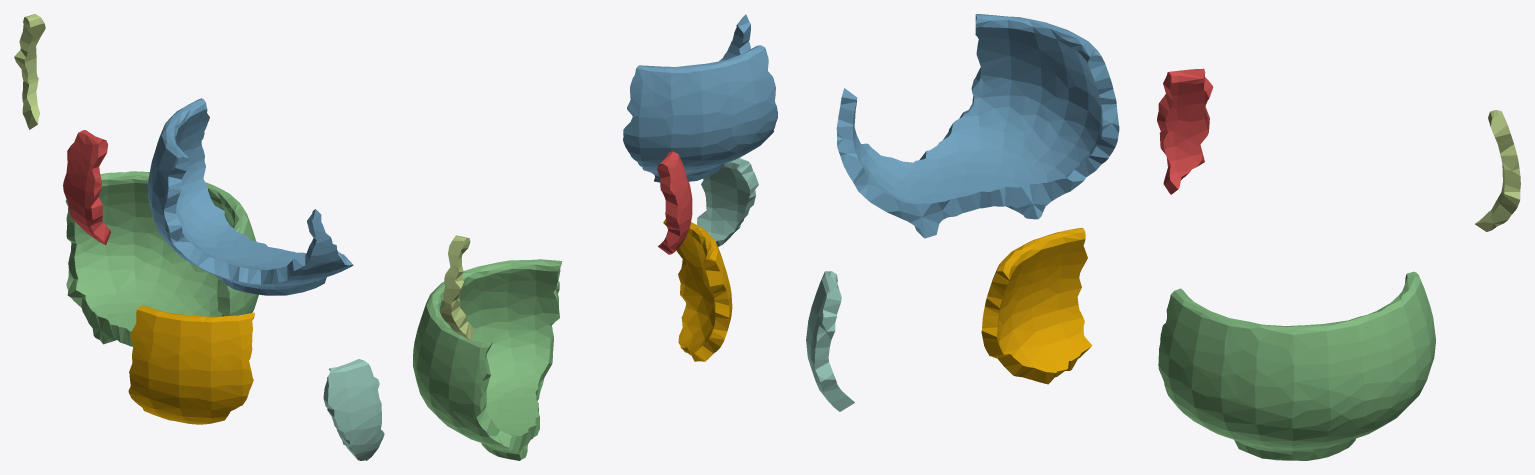
File: fractured_75_6pcs_transformed.glb
3 renders of one model, left to right at view 1: azimuth 30°, elevation 25°; view 2: azimuth 150°, elevation 25°; view 3: azimuth 270°, elevation 25°, orthographic. The views are drawn at different scales.
Visible parts, largest first — view 1: piece_3.obj, piece_2.obj, piece_0.obj, piece_4.obj, piece_1.obj, piece_5.obj; view 2: piece_3.obj, piece_2.obj, piece_0.obj, piece_4.obj, piece_1.obj, piece_5.obj; view 3: piece_2.obj, piece_3.obj, piece_0.obj, piece_1.obj, piece_4.obj, piece_5.obj.
Part boxes in pixels (x1,y1,x2,y2): piece_3.obj: [65, 171, 258, 346]; piece_2.obj: [147, 98, 353, 295]; piece_0.obj: [128, 305, 254, 424]; piece_4.obj: [323, 359, 384, 460]; piece_1.obj: [63, 130, 110, 245]; piece_5.obj: [14, 14, 45, 129]; piece_3.obj: [413, 259, 561, 460]; piece_2.obj: [623, 14, 777, 182]; piece_0.obj: [663, 219, 732, 361]; piece_4.obj: [697, 158, 758, 246]; piece_1.obj: [657, 151, 692, 254]; piece_5.obj: [439, 235, 474, 340]; piece_2.obj: [836, 14, 1119, 238]; piece_3.obj: [1158, 271, 1435, 460]; piece_0.obj: [981, 228, 1092, 384]; piece_1.obj: [1157, 68, 1213, 194]; piece_4.obj: [806, 271, 854, 411]; piece_5.obj: [1475, 110, 1520, 231].
Size of the model in its own units: 0.9997 by 1.42 by 2.5.
